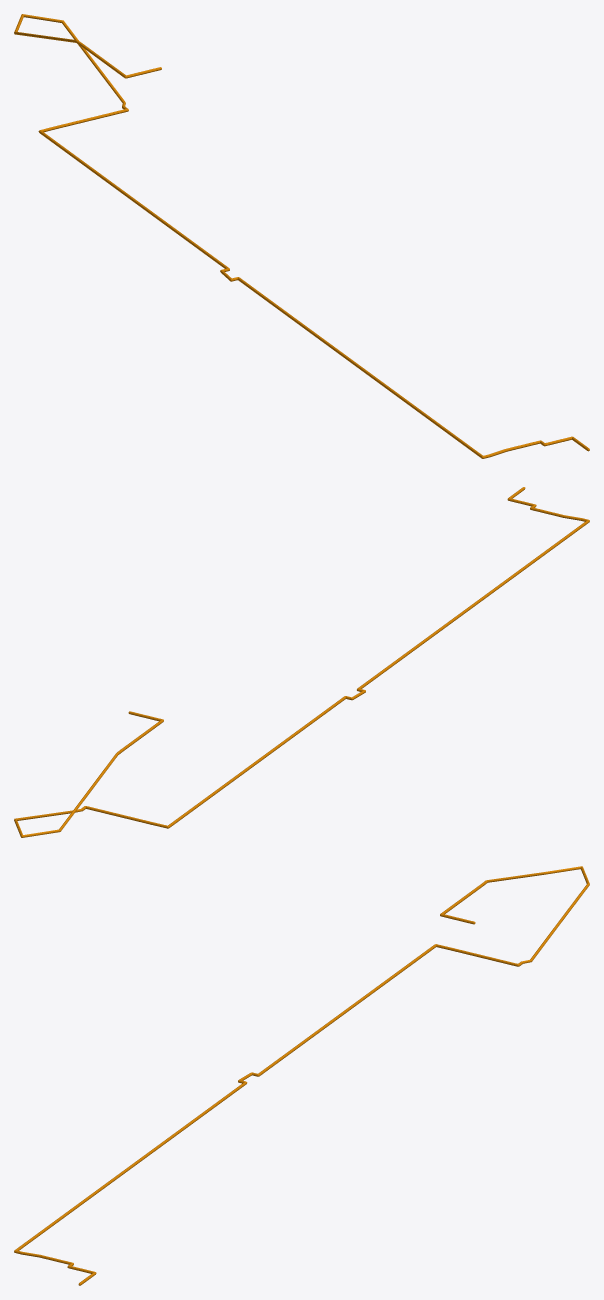
The picture shows the model from 3 angles, top to bottom: view 1: azimuth 30°, elevation 25°; view 2: azimuth 150°, elevation 25°; view 3: azimuth 330°, elevation 25°; orthographic projection. The views are drawn at different scales.
Bounding box in the file's own units: 749 × 520 × 6869.
